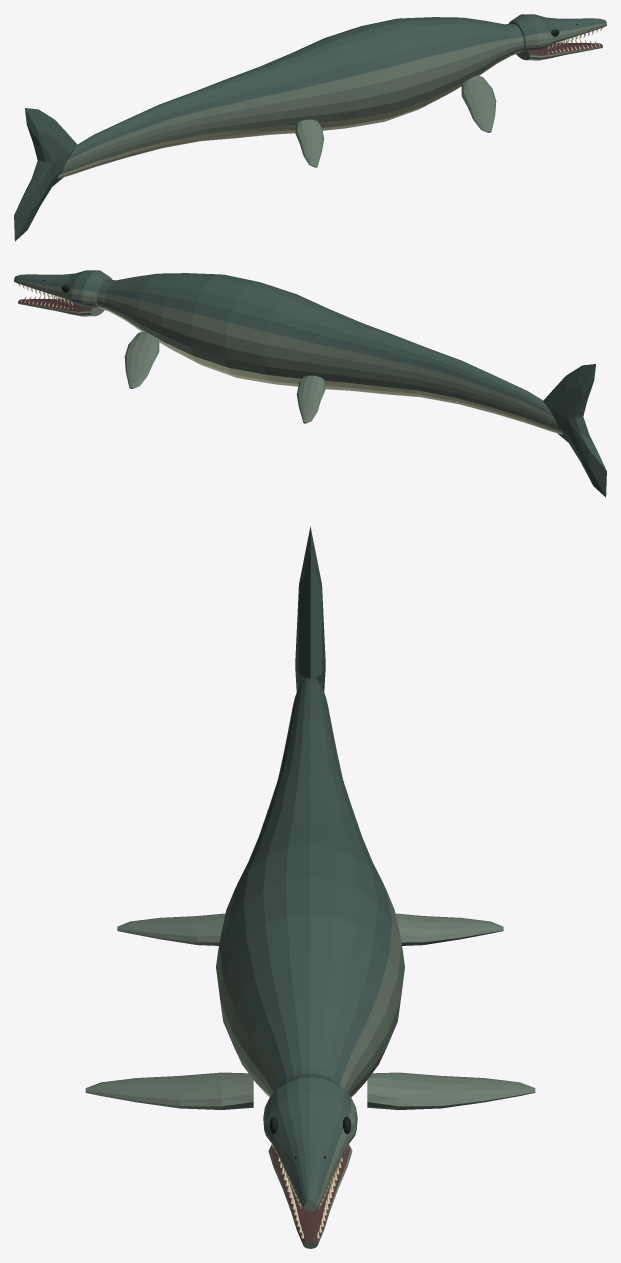
The picture shows the model from 3 angles, top to bottom: view 1: azimuth 30°, elevation 25°; view 2: azimuth 150°, elevation 25°; view 3: azimuth 270°, elevation 25°; orthographic projection. The views are drawn at different scales.
Visible parts, largest first — view 1: Axial-trunk-neck-and-laterally-compressed-tail, Inferred-hypocercal-tail-fin, Robust-upper-cranium-and-toothed-rostrum, Fore-paddle-right, Hind-paddle-right, Continuous-open-mandible; view 2: Axial-trunk-neck-and-laterally-compressed-tail, Inferred-hypocercal-tail-fin, Robust-upper-cranium-and-toothed-rostrum, Fore-paddle-left, Hind-paddle-left, Continuous-open-mandible; view 3: Axial-trunk-neck-and-laterally-compressed-tail, Robust-upper-cranium-and-toothed-rostrum, Fore-paddle-left, Fore-paddle-right, Inferred-hypocercal-tail-fin, Hind-paddle-left, Hind-paddle-right, Continuous-open-mandible.
Boxes of the visible parts, x1,y1,x2,y2 form: Axial-trunk-neck-and-laterally-compressed-tail: (57,17,524,178); Inferred-hypocercal-tail-fin: (14,108,77,241); Robust-upper-cranium-and-toothed-rostrum: (508,14,606,51); Fore-paddle-right: (461,75,496,132); Hind-paddle-right: (295,119,324,167); Continuous-open-mandible: (516,42,602,60); Axial-trunk-neck-and-laterally-compressed-tail: (96,273,563,434); Inferred-hypocercal-tail-fin: (543,364,606,497); Robust-upper-cranium-and-toothed-rostrum: (14,270,112,307); Fore-paddle-left: (124,331,159,388); Hind-paddle-left: (296,375,325,423); Continuous-open-mandible: (18,298,104,316); Axial-trunk-neck-and-laterally-compressed-tail: (216,678,404,1097); Robust-upper-cranium-and-toothed-rostrum: (263,1073,357,1211); Fore-paddle-left: (367,1072,535,1109); Fore-paddle-right: (85,1072,253,1109); Inferred-hypocercal-tail-fin: (295,526,325,691); Hind-paddle-left: (395,913,503,945); Hind-paddle-right: (117,913,225,945); Continuous-open-mandible: (268,1145,352,1248).
Size of the model in its own units: 6.5 by 1.38 by 2.14.
